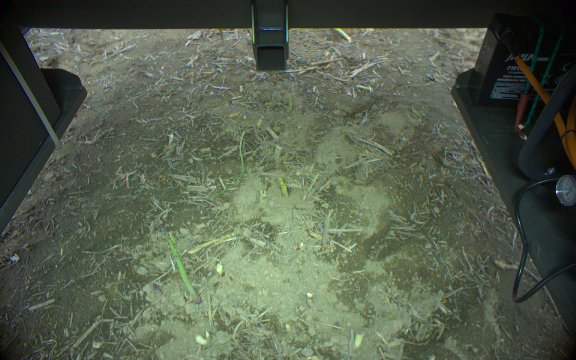aspa: (160, 227, 206, 311), (274, 174, 288, 202)
